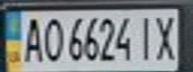2: (97, 14, 118, 63)
4: (115, 12, 136, 62)
6: (81, 14, 103, 63), (63, 14, 84, 62)
A: (18, 14, 45, 63)
I: (136, 12, 157, 62)
O: (39, 14, 66, 63)
X: (151, 11, 181, 61)
